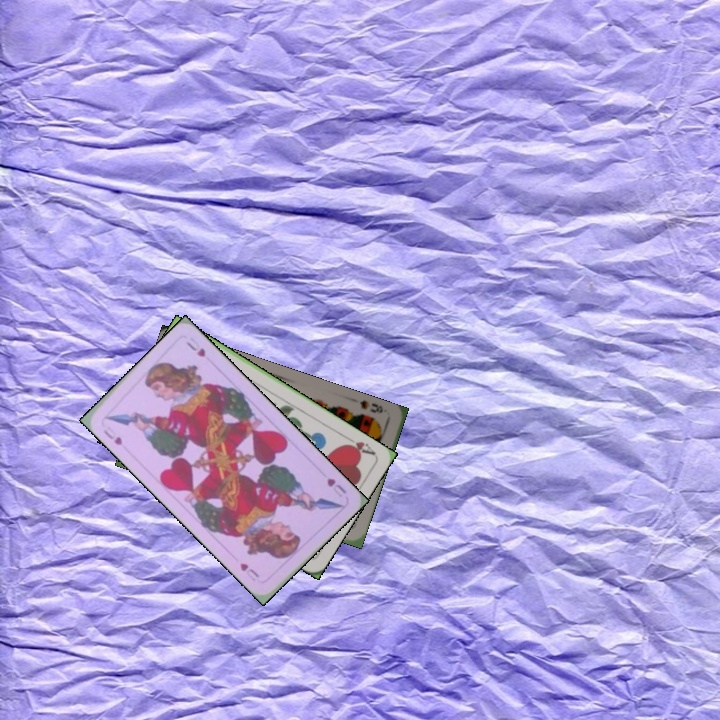HA: (340, 431, 378, 458)
HU: (323, 474, 349, 500), (100, 426, 125, 448)
S8: (355, 396, 386, 415)
